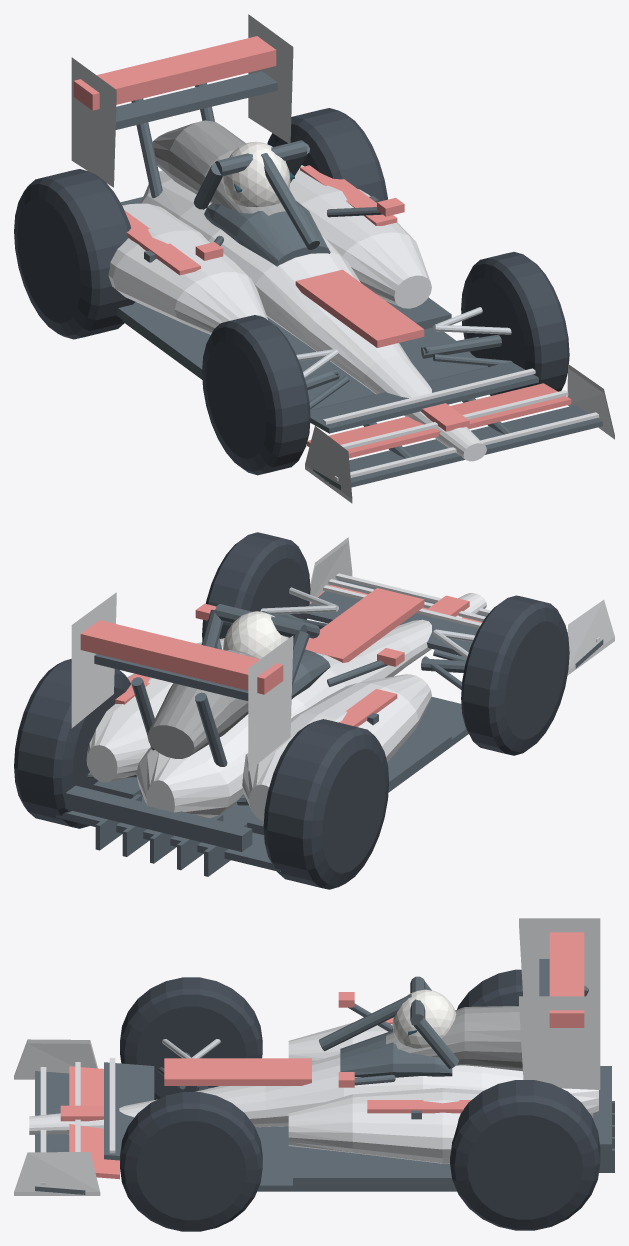
File: haas_high.glb
The picture shows the model from 3 angles, top to bottom: view 1: azimuth 30°, elevation 25°; view 2: azimuth 150°, elevation 25°; view 3: azimuth 270°, elevation 25°; orthographic projection. The views are drawn at different scales.
Parts seen in each view (by area): view 1: BODY_paint, BODY_carbon, BODY_accent, RearLeftWheel_rubber, FrontLeftWheel_rubber, FrontRightWheel_rubber, RearRightWheel_rubber, BODY_paint_dark, BODY_helmet, BODY_metal; view 2: BODY_paint, BODY_carbon, RearLeftWheel_rubber, FrontLeftWheel_rubber, BODY_accent, RearRightWheel_rubber, FrontRightWheel_rubber, BODY_paint_dark, BODY_helmet, BODY_metal; view 3: BODY_paint, BODY_carbon, RearRightWheel_rubber, FrontRightWheel_rubber, BODY_accent, FrontLeftWheel_rubber, BODY_paint_dark, BODY_helmet, RearLeftWheel_rubber.
Boxes of the visible parts, x1,y1,x2,y2 form: BODY_paint: (71, 14, 614, 503); BODY_carbon: (115, 71, 602, 489); BODY_accent: (73, 36, 571, 458); RearLeftWheel_rubber: (14, 169, 135, 339); FrontLeftWheel_rubber: (202, 315, 310, 475); FrontRightWheel_rubber: (461, 252, 569, 395); RearRightWheel_rubber: (267, 108, 387, 201); BODY_paint_dark: (152, 120, 285, 215); BODY_helmet: (222, 141, 290, 207); BODY_metal: (296, 307, 511, 378); BODY_paint: (71, 537, 614, 821); BODY_carbon: (56, 579, 603, 876); RearLeftWheel_rubber: (263, 719, 388, 889); FrontLeftWheel_rubber: (461, 595, 569, 755); BODY_accent: (80, 585, 482, 726); RearRightWheel_rubber: (14, 659, 130, 828); FrontRightWheel_rubber: (202, 532, 310, 641); BODY_paint_dark: (147, 650, 258, 758); BODY_helmet: (223, 611, 288, 659); BODY_metal: (260, 587, 475, 658); BODY_paint: (14, 918, 600, 1195); BODY_carbon: (35, 959, 614, 1194); RearRightWheel_rubber: (450, 1080, 600, 1230); FrontRightWheel_rubber: (120, 1092, 262, 1231); BODY_accent: (60, 932, 584, 1179); FrontLeftWheel_rubber: (120, 977, 262, 1099); BODY_paint_dark: (386, 1006, 522, 1071); BODY_helmet: (392, 989, 456, 1048); RearLeftWheel_rubber: (457, 969, 522, 1009).
Bounding box in the file's own units: 2.59 × 1.9 × 4.88.
